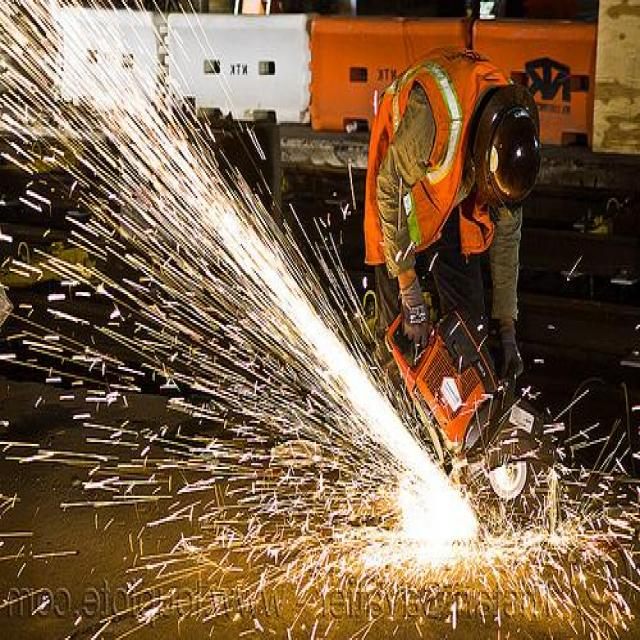Reflective-Jacket: (361, 46, 504, 279)
Safety-Helmet: (462, 83, 544, 219)
